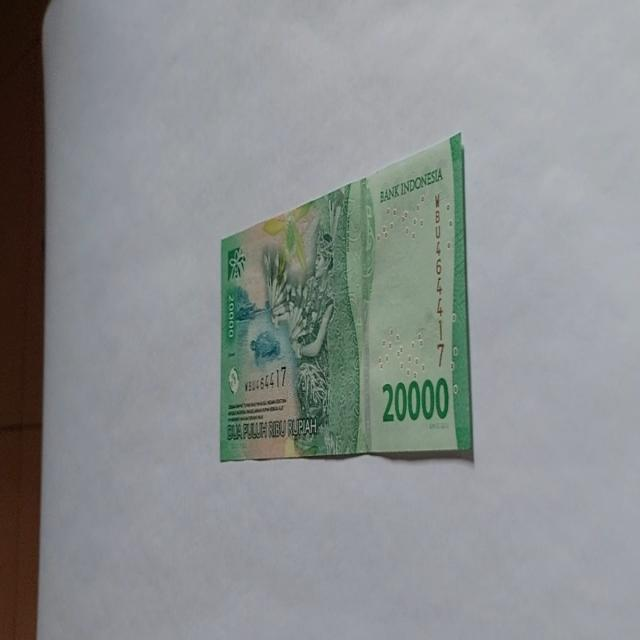dua puluh ribu rupiah: (218, 130, 474, 464)
